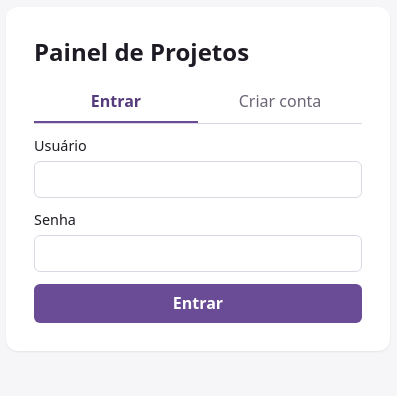
Test: LoginPage (spec H6) › mensagem clara para senha errada
The width and height of the screenshot is (397, 396).
Type "ana" into the field labelled "Usuário" at (198, 179), box [34, 161, 362, 198]
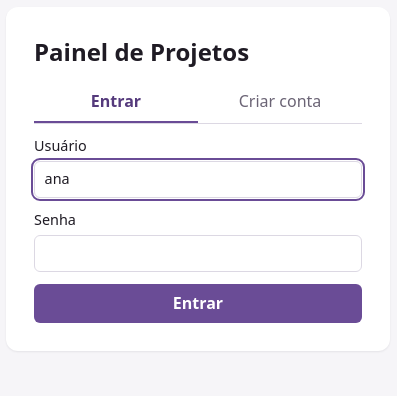
Type "errada" into the password field labelled "Senha" at (198, 253), box [34, 235, 362, 272]
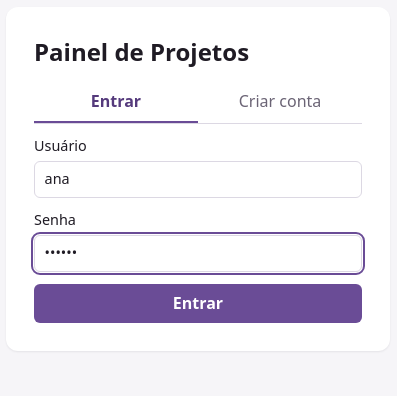
Click the button "Entrar" at (198, 304), box [34, 284, 362, 323]
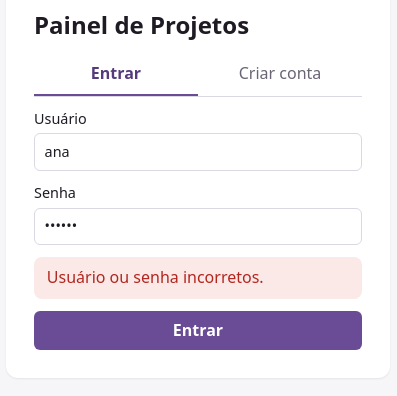
expect the message reads "Usuário ou senha incorretos.": met, box [47, 266, 264, 288]
